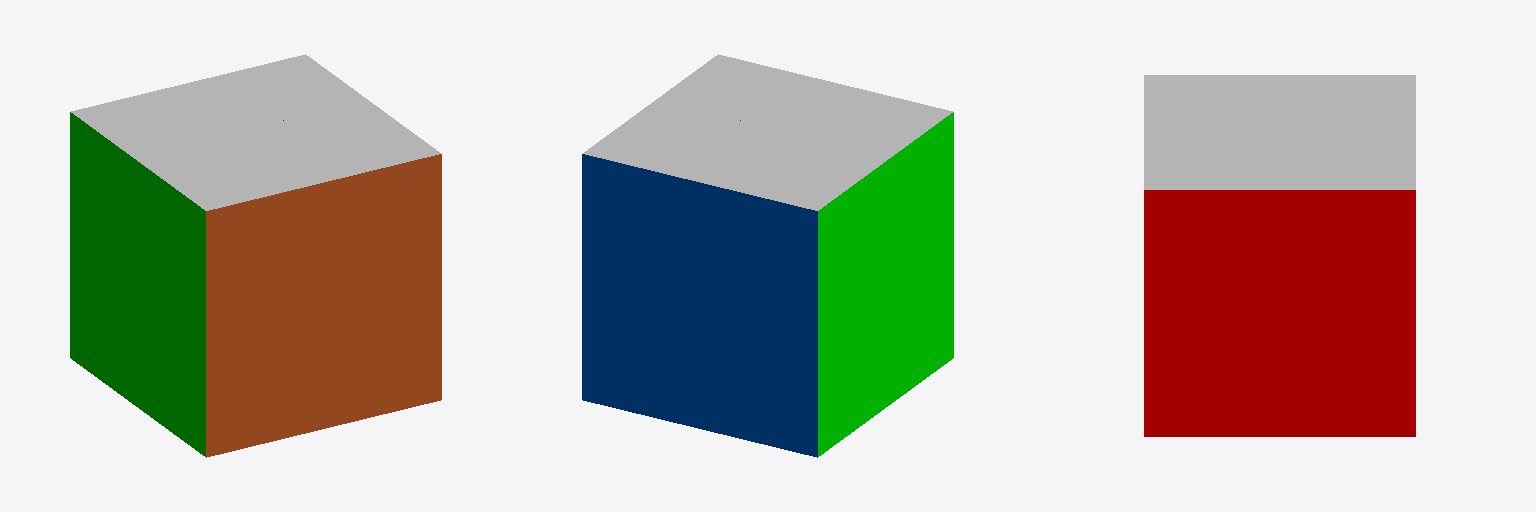
File: transparent_closed.obj
3 views of the same model, side by side, from view 1: azimuth 30°, elevation 25°; view 2: azimuth 150°, elevation 25°; view 3: azimuth 270°, elevation 25° (orthographic).
Visible parts, largest first — view 1: Plane.005, Plane.001, Plane.004, Plane.005_Plane.006; view 2: Plane.003, Plane.001, Plane.004, Plane.005_Plane.006; view 3: Plane.002, Plane.004, Plane.005_Plane.006.
Boxes of the visible parts, box(x1,y1,x2,y2) form: Plane.005: box(206, 154, 441, 457); Plane.001: box(70, 112, 205, 456); Plane.004: box(71, 54, 440, 210); Plane.005_Plane.006: box(212, 110, 300, 146); Plane.003: box(582, 154, 817, 457); Plane.001: box(818, 112, 953, 456); Plane.004: box(583, 54, 952, 210); Plane.005_Plane.006: box(715, 116, 803, 152); Plane.002: box(1144, 190, 1415, 436); Plane.004: box(1144, 75, 1415, 189); Plane.005_Plane.006: box(1255, 121, 1320, 148).
Size of the model in its own units: 8.28 by 8.28 by 8.28.